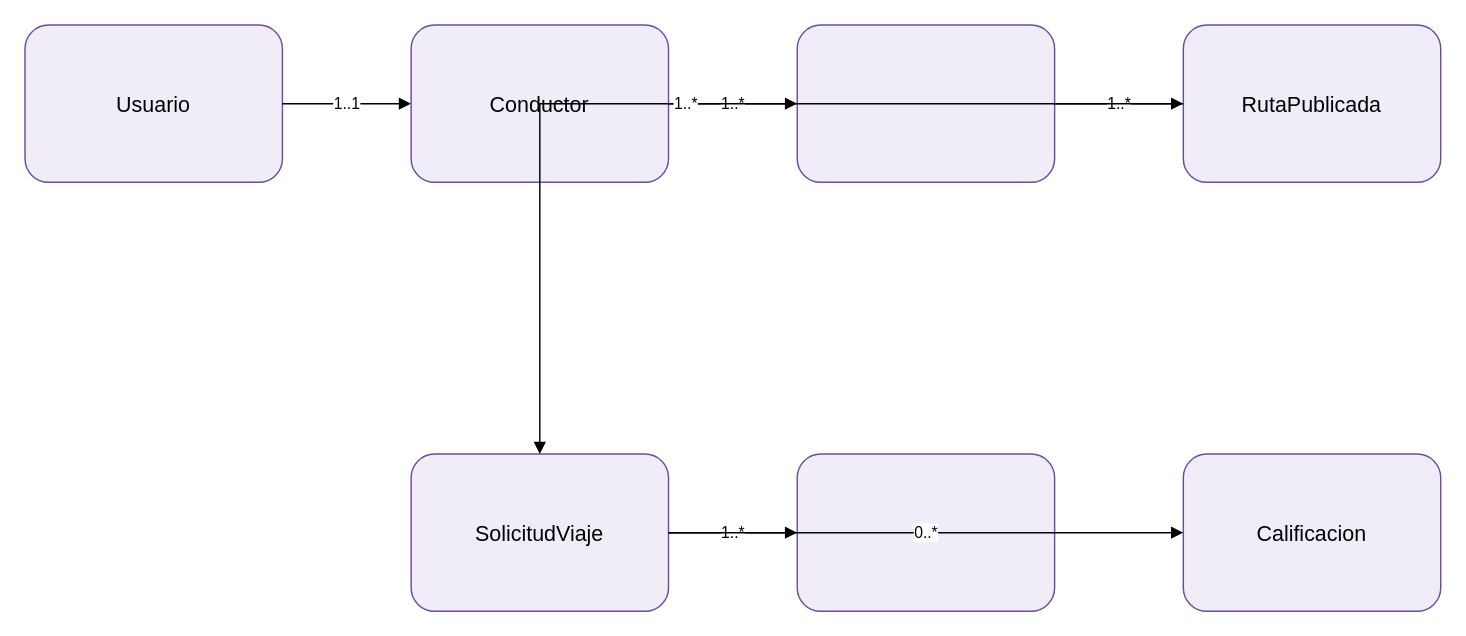
Some shapes in this 1466 by 636 pixel diagram are drawn without their labels. Each missing label, with the centre of its shape:
"Pago" goes at point (925, 532).
"Vehiculo" goes at point (925, 103).
